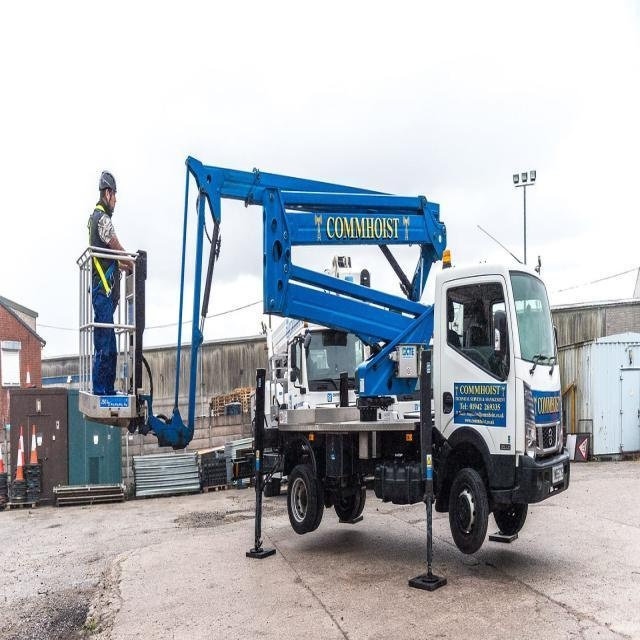Arnes_seguridad: (87, 208, 125, 302)
